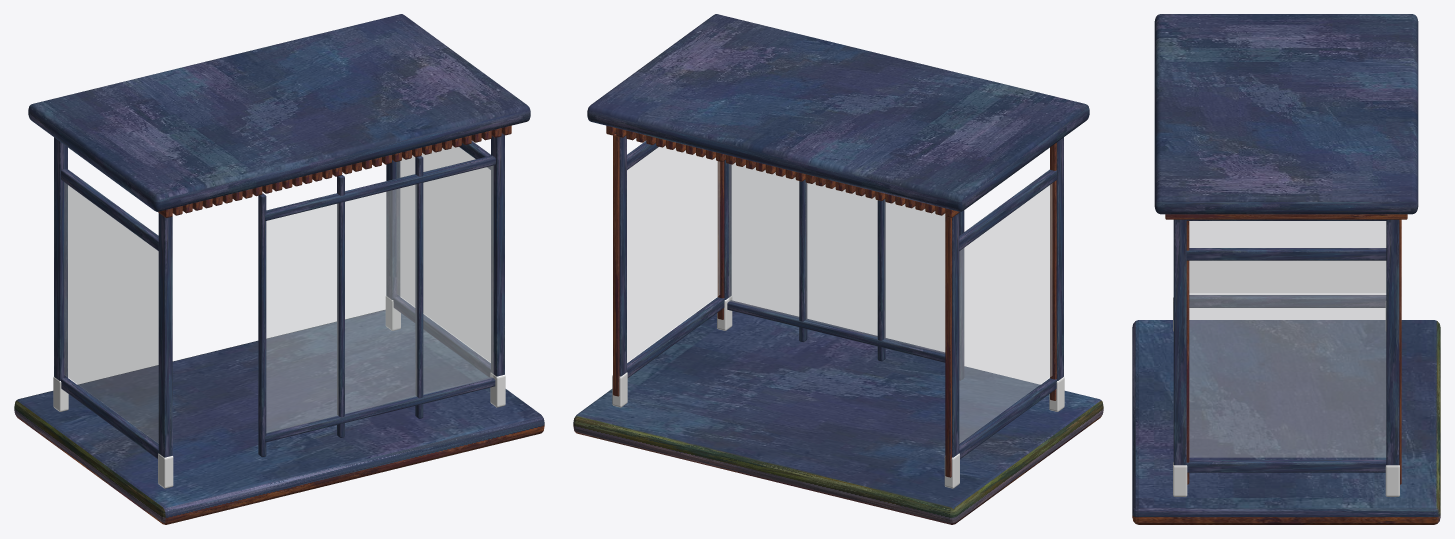
The model's file is shelter.glb.
3 renders of one model, left to right at view 1: azimuth 30°, elevation 25°; view 2: azimuth 150°, elevation 25°; view 3: azimuth 270°, elevation 25°, orthographic.
Parts seen in each view (by area): view 1: Shelter foundation.016, Thin roof cap.016, Side glass.032, FROSTED_REAR_PANEL_3.012, FROSTED_REAR_PANEL_2.012, FROSTED_REAR_PANEL_1.012, Side glass.033, Structural pillar.064, Structural pillar.066, Structural pillar.065, Rear privacy rail.025, Rear privacy rail.024 (+7 smaller); view 2: Shelter foundation.016, Thin roof cap.016, Side glass.032, Side glass.033, FROSTED_REAR_PANEL_2.012, FROSTED_REAR_PANEL_1.012, FROSTED_REAR_PANEL_3.012, Rear privacy rail.024, Structural pillar.065, Structural pillar.067, Structural pillar.064, Timber pillar face.067 (+10 smaller); view 3: Shelter foundation.016, Thin roof cap.016, Side glass.033, Side glass.032, Structural pillar.066, Structural pillar.067, Side glazing rail.100, Side glazing rail.099, Side glazing rail.096, Ceiling timber slat.594, Timber pillar face.066, Timber pillar face.067 (+3 smaller).
Boxes of the visible parts, x1,y1,x2,y2 form: Shelter foundation.016: (14,310,544,524); Thin roof cap.016: (28,14,530,211); Side glass.032: (64,182,158,443); FROSTED_REAR_PANEL_3.012: (266,203,338,432); FROSTED_REAR_PANEL_2.012: (345,184,416,413); FROSTED_REAR_PANEL_1.012: (423,166,493,394); Side glass.033: (396,146,490,361); Structural pillar.064: (158,213,172,457); Structural pillar.066: (491,133,504,376); Structural pillar.065: (54,137,67,380); Rear privacy rail.025: (265,155,495,220); Rear privacy rail.024: (265,377,495,442); Shelter foundation.016: (573,311,1103,524); Thin roof cap.016: (587,14,1089,211); Side glass.032: (959,183,1052,443); Side glass.033: (627,146,719,362); FROSTED_REAR_PANEL_2.012: (805,182,877,336); FROSTED_REAR_PANEL_1.012: (729,162,798,317); FROSTED_REAR_PANEL_3.012: (884,199,944,353); Rear privacy rail.024: (727,300,945,362); Structural pillar.065: (952,213,959,457); Structural pillar.067: (615,133,626,376); Structural pillar.064: (1056,137,1063,380); Timber pillar face.067: (613,134,619,396); Shelter foundation.016: (1132,320,1440,524); Thin roof cap.016: (1154,14,1418,214); Side glass.033: (1189,261,1385,457); Side glass.032: (1189,221,1385,292); Structural pillar.066: (1173,219,1186,465); Structural pillar.067: (1386,219,1399,465); Side glazing rail.100: (1186,248,1386,260); Side glazing rail.099: (1186,460,1386,472); Side glazing rail.096: (1189,295,1386,307); Ceiling timber slat.594: (1165,214,1407,219); Timber pillar face.066: (1186,221,1189,484); Timber pillar face.067: (1399,219,1401,484).
Bounding box in the file's own units: 3.8 × 3.05 × 2.61.
Materials: 8 (4 with a texture image).
